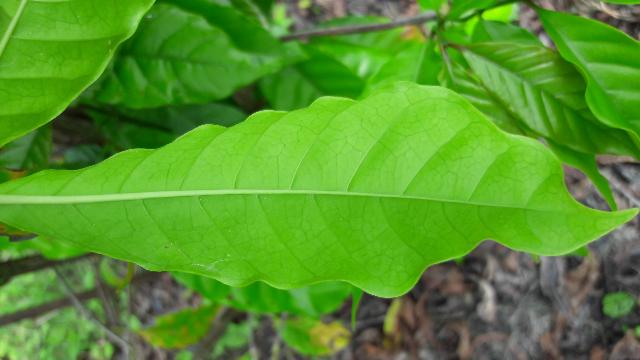healthy: (0, 73, 640, 302)
